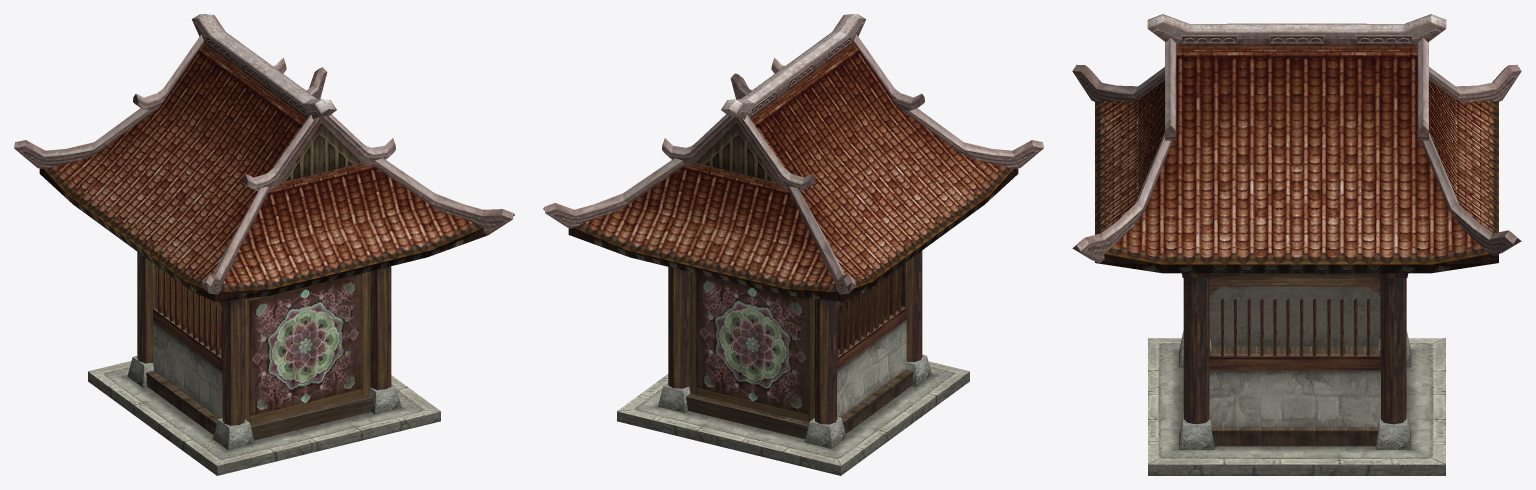
File: a1-004-house2.fbx
3 views of the same model, side by side, from view 1: azimuth 30°, elevation 25°; view 2: azimuth 150°, elevation 25°; view 3: azimuth 270°, elevation 25° (orthographic). The views are drawn at different scales.
Parts seen in each view (by area): view 1: Object02; view 2: Object02; view 3: Object02.
Part boxes in pixels (left/top/right/bottom): Object02: left=14, top=14, right=514, bottom=475; Object02: left=543, top=14, right=1043, bottom=475; Object02: left=1072, top=14, right=1521, bottom=475.
Size of the model in its own units: 5.23 by 5.5 by 5.63.
